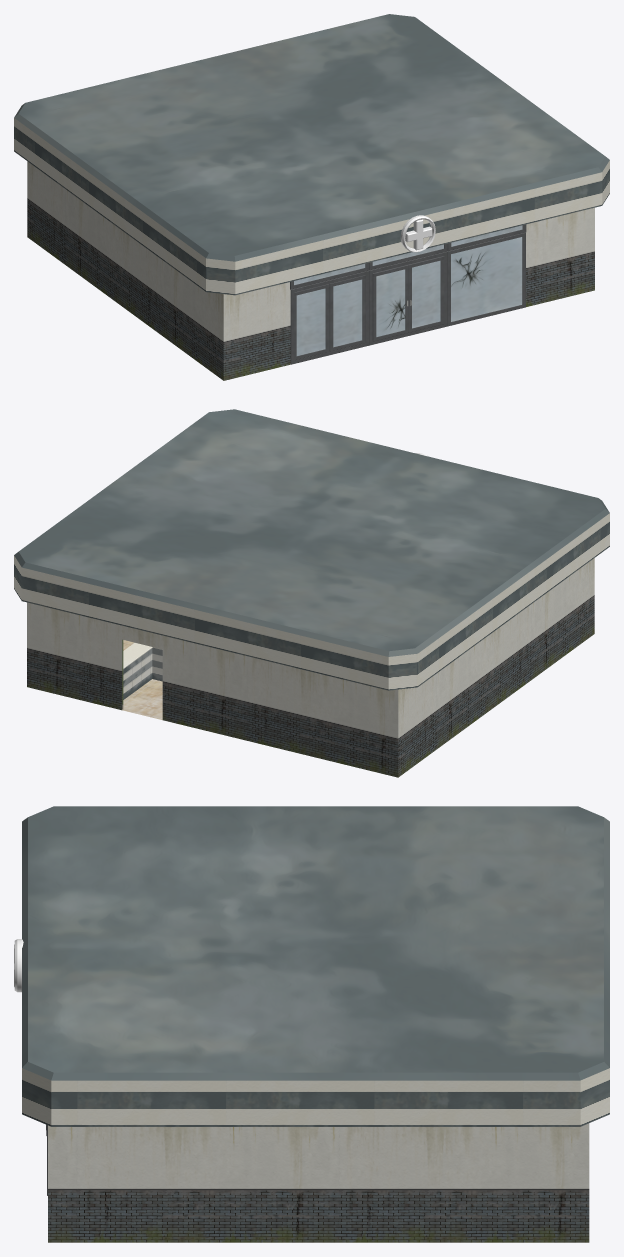
Rendered from Farmachey.fbx.
3 renders of one model, top to bottom at view 1: azimuth 30°, elevation 25°; view 2: azimuth 150°, elevation 25°; view 3: azimuth 270°, elevation 25°, orthographic. The views are drawn at different scales.
Visible parts, largest first — view 1: Top1, Exterior, Fixture_Structure_Winows, Anta_Left, Anta_Right, Symbol1; view 2: Top1, Exterior, table, Floor; view 3: Top1, Exterior.
Part boxes in pixels (x1,y1,x2,y2): Top1: (14, 14, 609, 295); Exterior: (27, 161, 594, 380); Fixture_Structure_Winows: (290, 224, 526, 364); Anta_Left: (372, 264, 408, 341); Anta_Right: (408, 256, 444, 332); Symbol1: (400, 215, 435, 252); Top1: (14, 409, 609, 690); Exterior: (27, 558, 594, 777); table: (123, 647, 162, 699); Floor: (122, 640, 162, 719); Top1: (22, 806, 609, 1126); Exterior: (48, 1123, 589, 1242).
Size of the model in its own units: 1330 by 408 by 1235.
